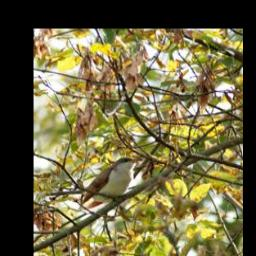Cuckoo: (72, 151, 146, 207)
